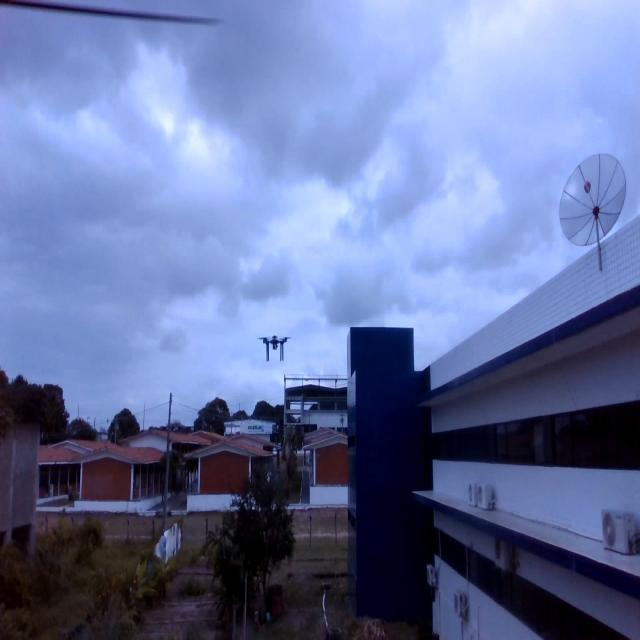-uav-: (251, 312, 297, 374)
